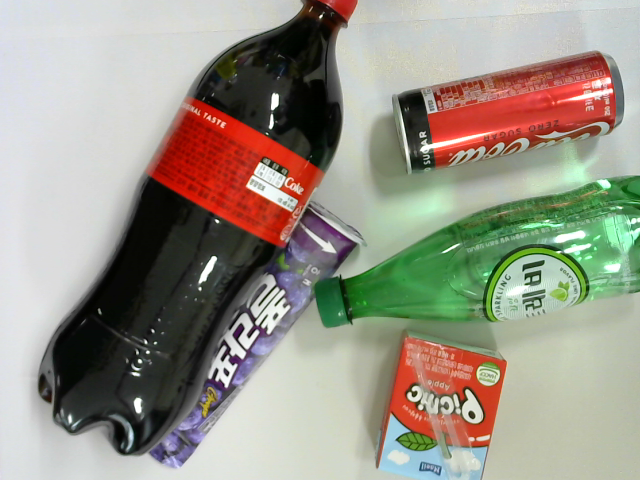Coca_Cola_1.5L: (34, 1, 359, 460)
Coca_Cola_Zero_Can_250ml: (393, 48, 629, 173)
Picnic_Apple: (375, 328, 508, 480)
Polapo_Grape: (146, 200, 365, 469)
Treviraim_500ml: (314, 173, 640, 331)
